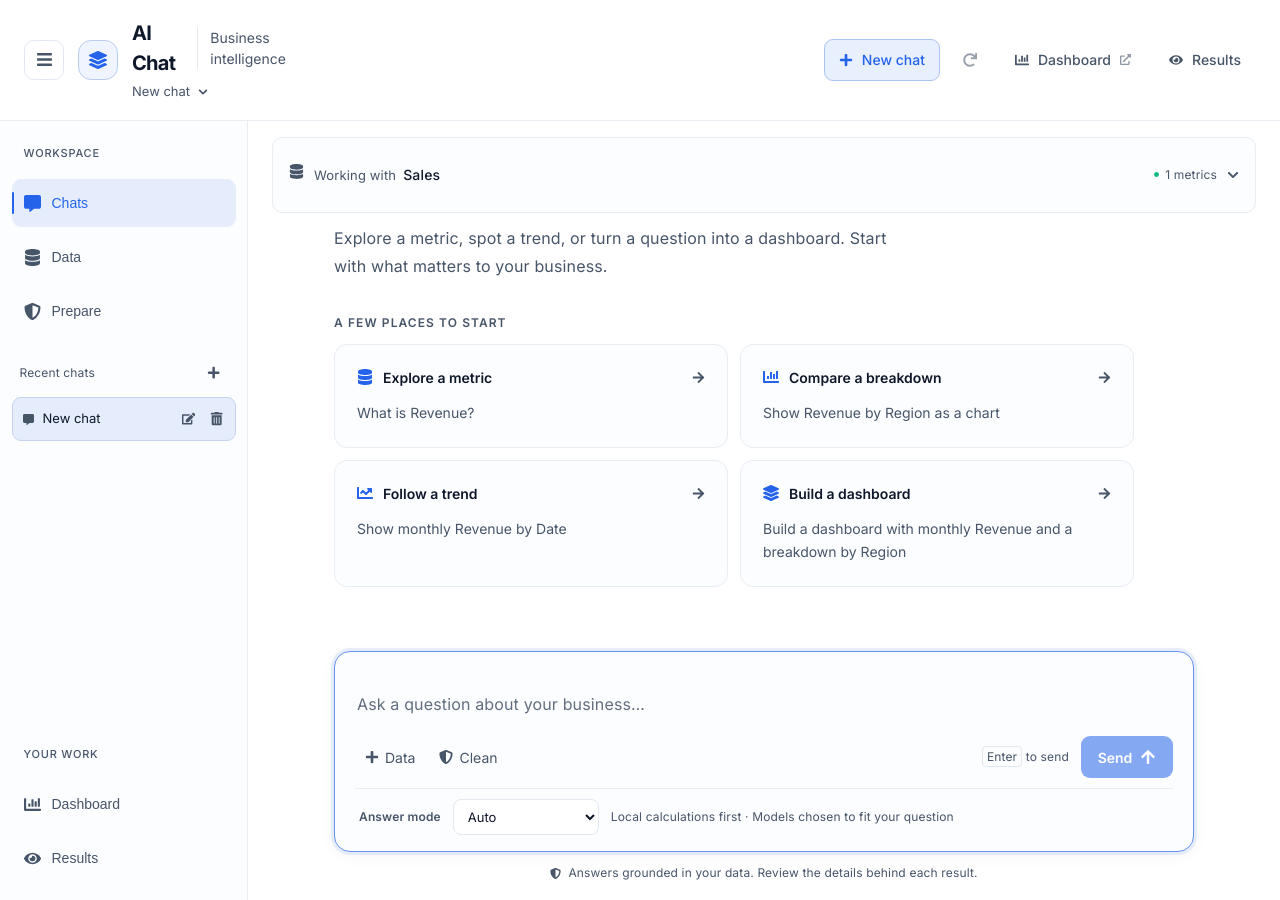
failure preserves text and retry does not duplicate the user message
This screenshot has width=1280, height=900.
(page scrolled)
Type "How much revenue?" into the text box named "Business question" at [764, 704], box [357, 691, 1171, 717]
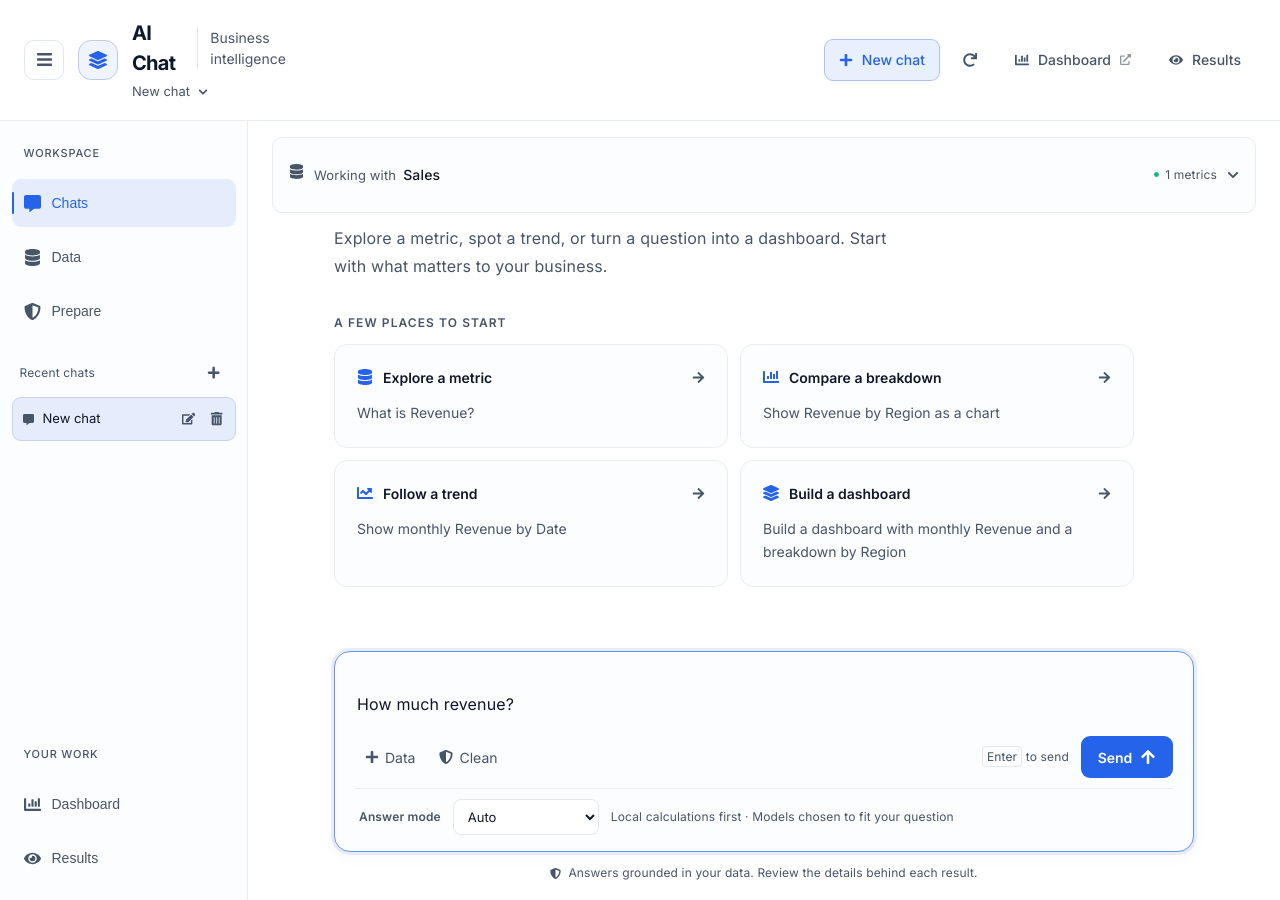
Click the button with aria-label "Send Message" at [1127, 757], box [1081, 736, 1173, 778]
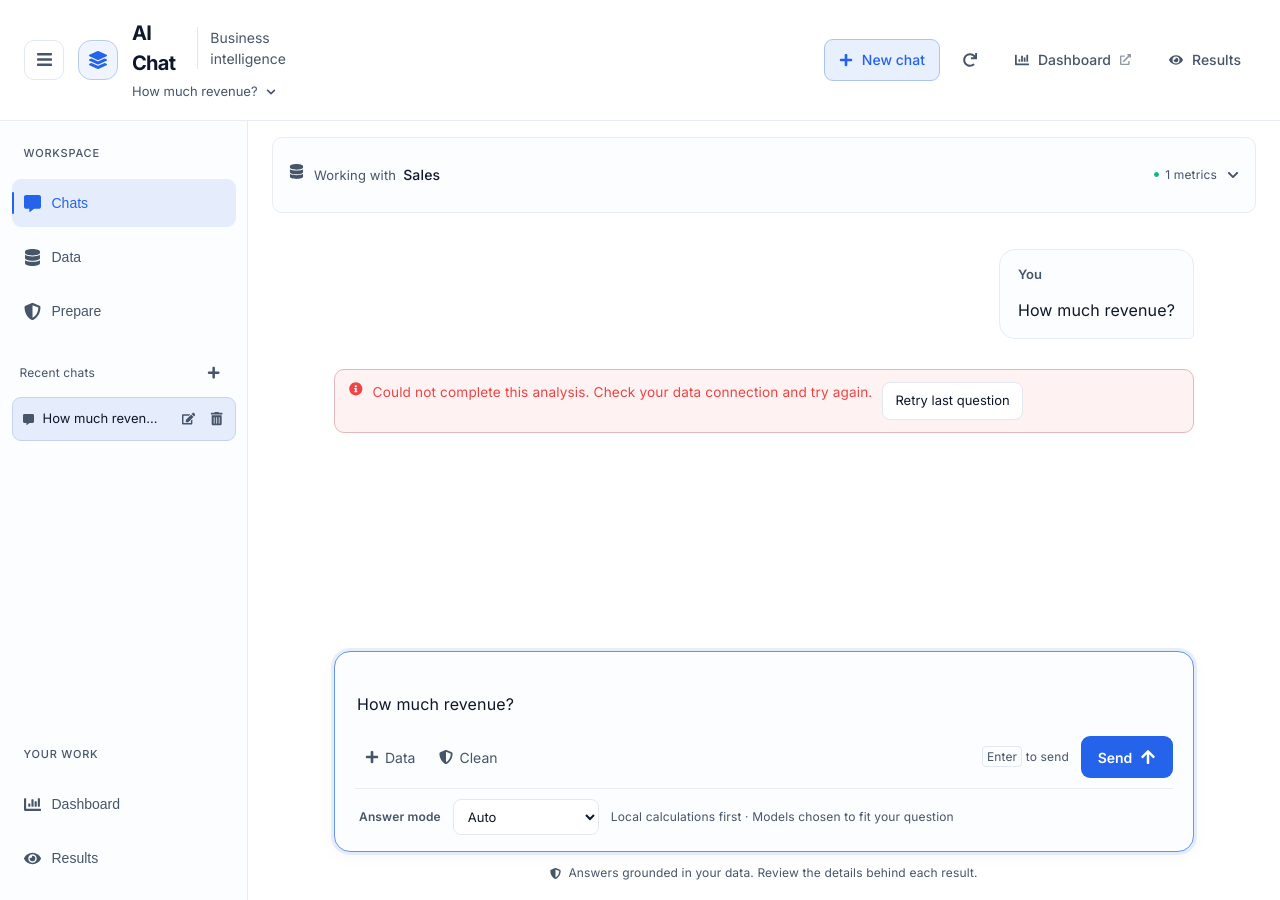
Check: the message is shown, box [334, 369, 1194, 433]
Click the button "Retry last question" at [953, 401], box [882, 382, 1023, 420]
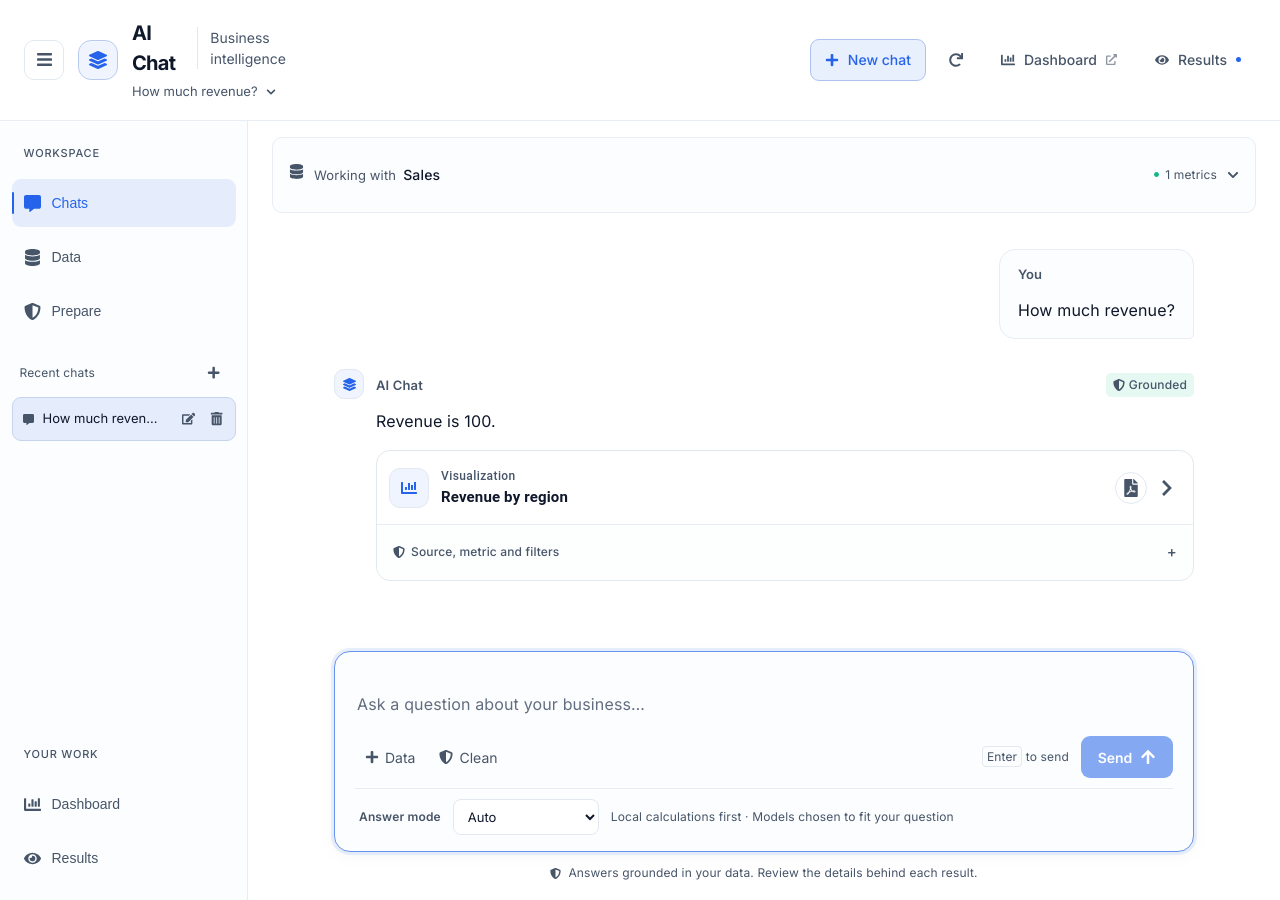
Check: the text "Revenue is 100." is shown, box [376, 411, 496, 431]
Check: the text "How much revenue?" is shown once, box [1018, 296, 1175, 324]
